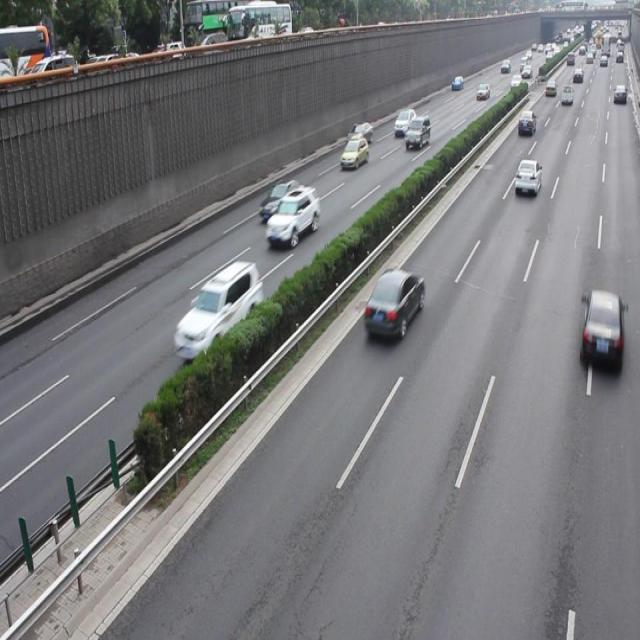car: (172, 258, 262, 365), (362, 266, 424, 338), (580, 289, 622, 375), (264, 187, 320, 247), (260, 178, 304, 220), (338, 135, 368, 172), (512, 157, 540, 196)
